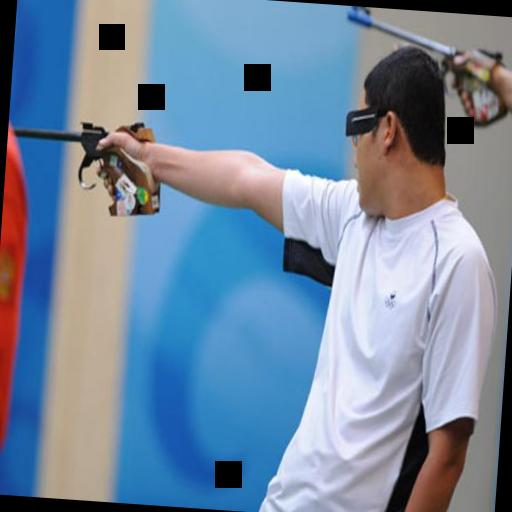Handgun: (333, 5, 512, 125), (3, 112, 166, 216)
